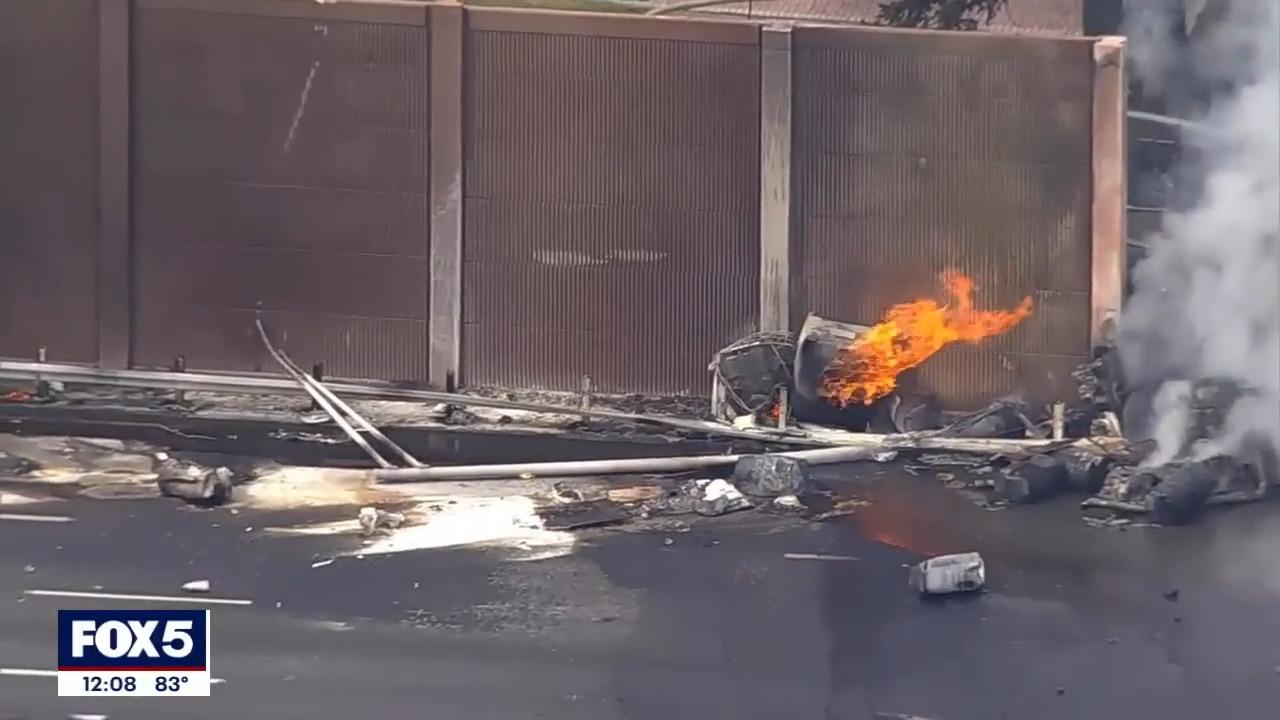fire: (821, 266, 1034, 408)
